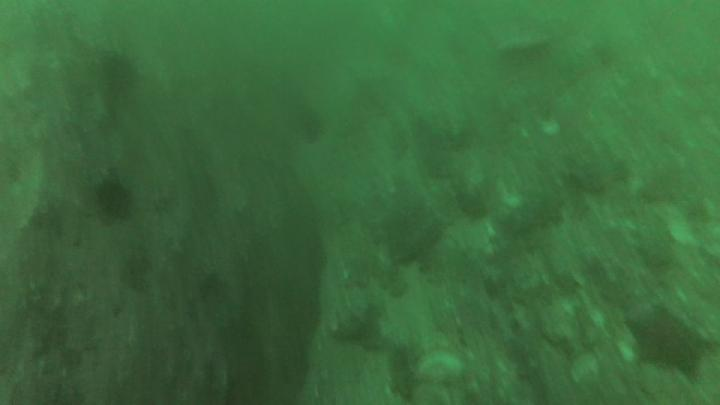echinus: (96, 181, 133, 221), (104, 53, 136, 92)
starfish: (629, 306, 708, 380)
